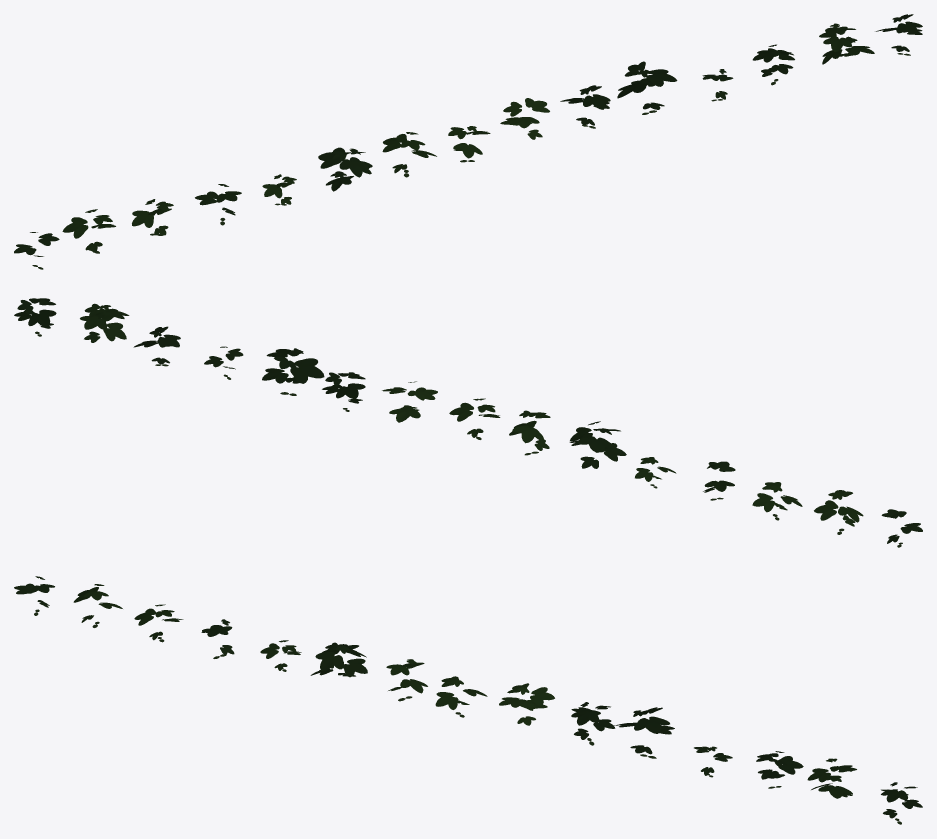
Rendered from ROW_18_SEG0_foliage.dae.
3 renders of one model, top to bottom at view 1: azimuth 30°, elevation 25°; view 2: azimuth 150°, elevation 25°; view 3: azimuth 330°, elevation 25°, orthographic.
Parts seen in each view (by area): view 1: ROW_18_SEG0_foliage; view 2: ROW_18_SEG0_foliage; view 3: ROW_18_SEG0_foliage.
Part boxes in pixels (left/top/right/bottom): ROW_18_SEG0_foliage: left=14, top=14, right=922, bottom=269; ROW_18_SEG0_foliage: left=14, top=298, right=922, bottom=547; ROW_18_SEG0_foliage: left=14, top=576, right=922, bottom=824.
Bounding box in the file's own units: 4.49 × 0.3001 × 0.2287.
